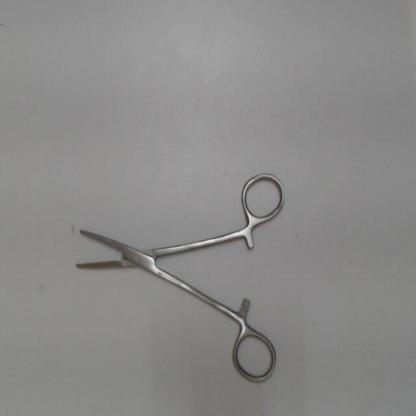Mayo Needle Holder: (66, 165, 289, 387)
